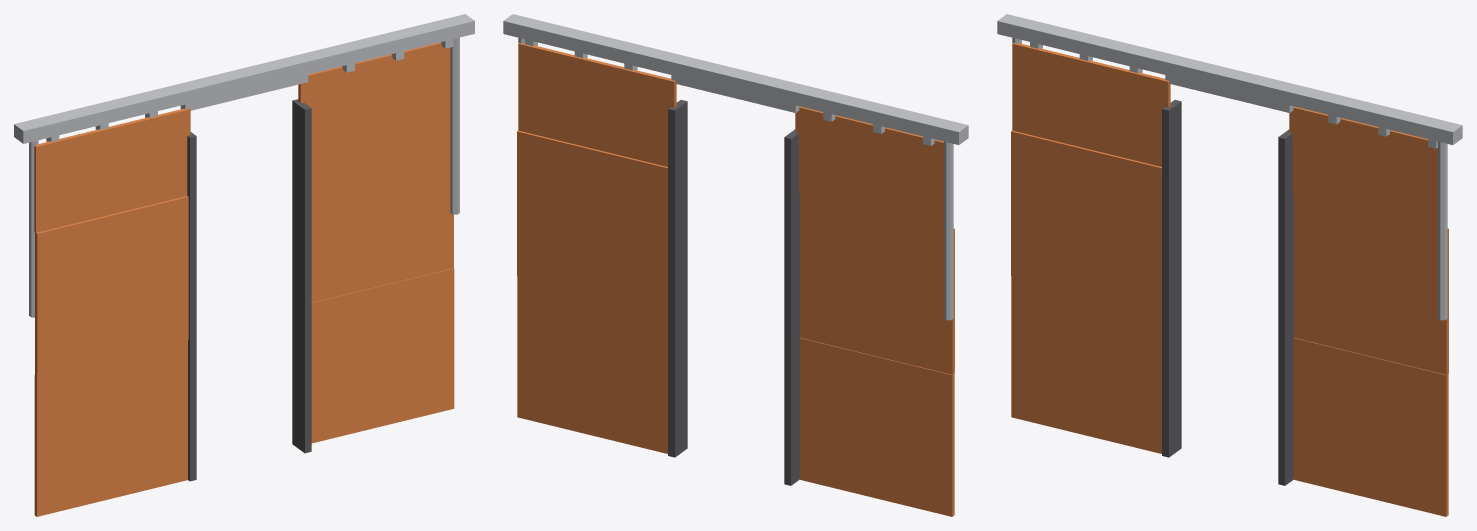
File: underground-mine-and-shaft-works-brattice-curtain-7d981e98.glb
The picture shows the model from 3 angles, left to right: view 1: azimuth 30°, elevation 25°; view 2: azimuth 150°, elevation 25°; view 3: azimuth 330°, elevation 25°; orthographic projection.
Parts seen in each view (by area): view 1: brattice-curtain; view 2: brattice-curtain; view 3: brattice-curtain.
Part boxes in pixels (box(x1,y1,x2,y2)): brattice-curtain: box(14, 14, 474, 516); brattice-curtain: box(503, 14, 968, 516); brattice-curtain: box(997, 14, 1462, 516).
Size of the model in its own units: 3.3 by 2.72 by 0.16.
